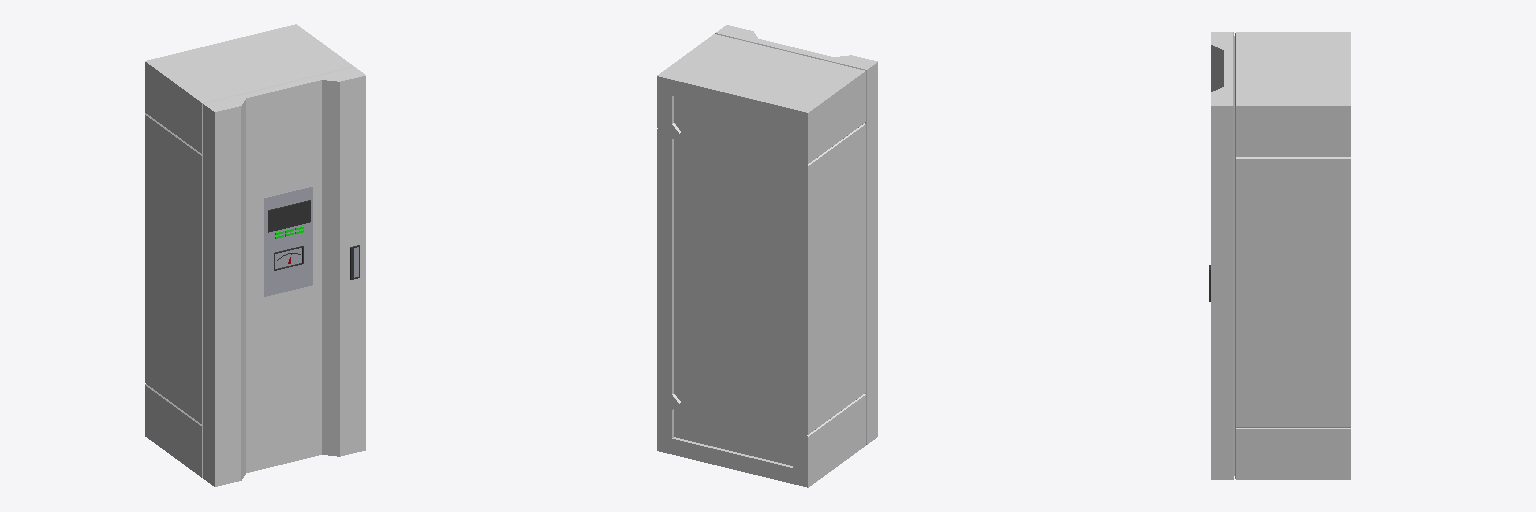
File: ups.obj
The picture shows the model from 3 angles: view 1: azimuth 30°, elevation 25°; view 2: azimuth 150°, elevation 25°; view 3: azimuth 270°, elevation 25°; orthographic projection.
Visible parts, largest first — view 1: ups; view 2: ups; view 3: ups.
Boxes of the visible parts, x1=… form: ups: x1=145, y1=24, x2=365, y2=486; ups: x1=657, y1=25, x2=877, y2=487; ups: x1=1209, y1=32, x2=1350, y2=479.
Bounding box in the file's own units: 95.16 × 225 × 77.02.